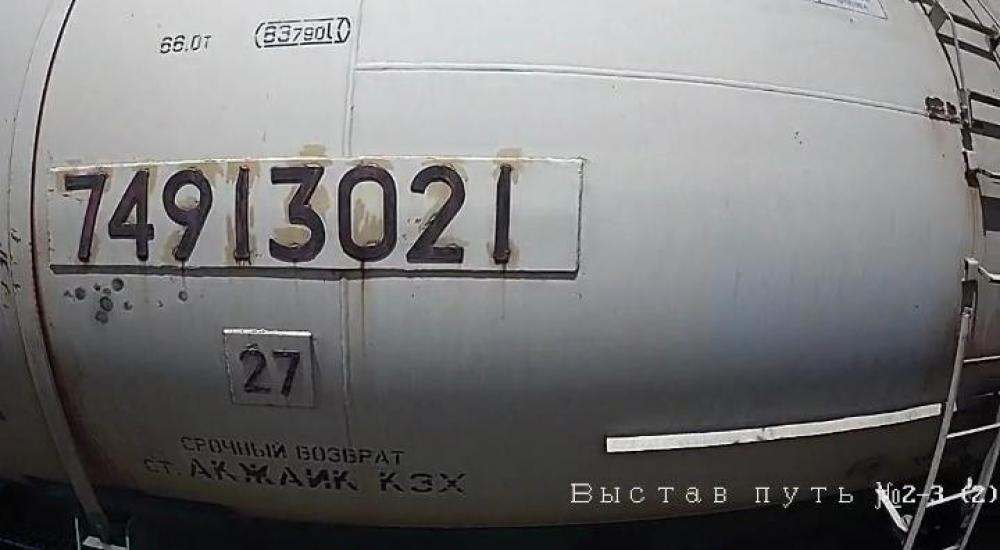Wagon-number: (54, 158, 524, 268)
